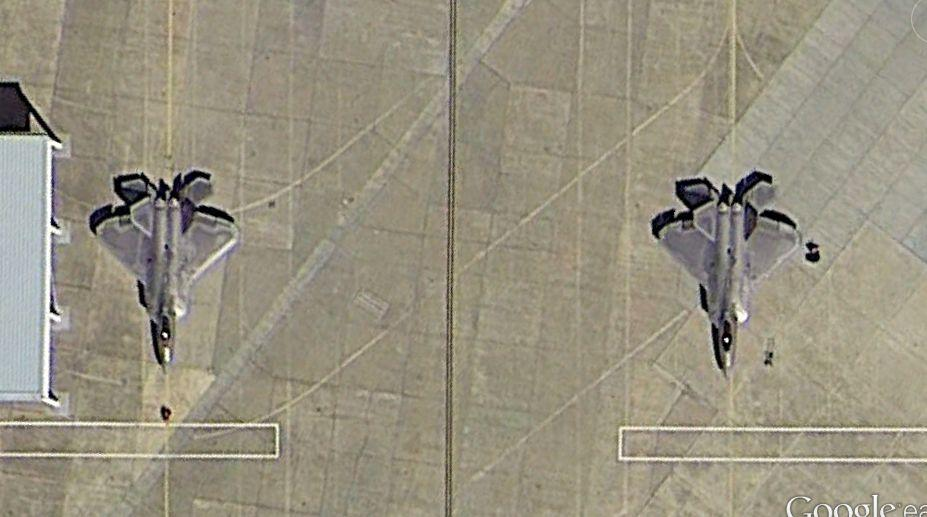F-22: (656, 173, 804, 382), (92, 172, 245, 372)
